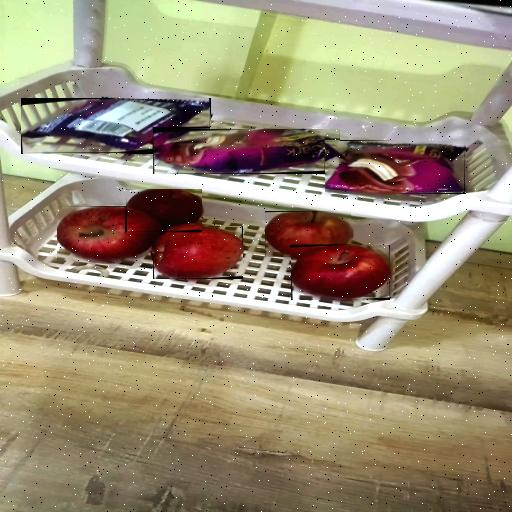Apple: (57, 207, 158, 260), (291, 245, 390, 299), (153, 227, 243, 279), (266, 211, 351, 257), (126, 189, 202, 232)
Choco Pie: (22, 99, 210, 152), (153, 129, 340, 173), (325, 142, 465, 194)
